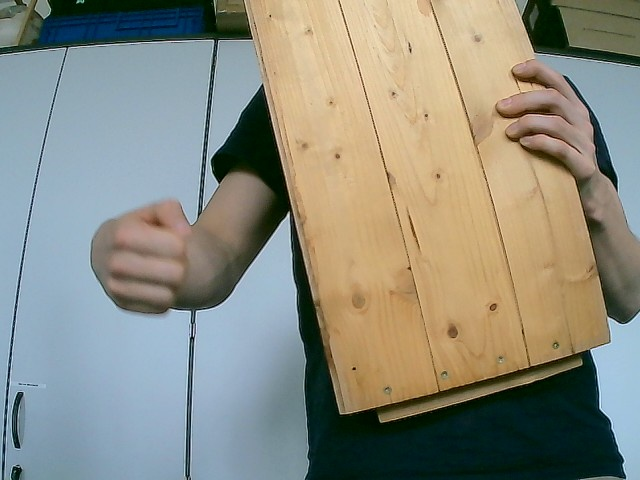no_gesture: (494, 58, 599, 183), (89, 197, 193, 315)
